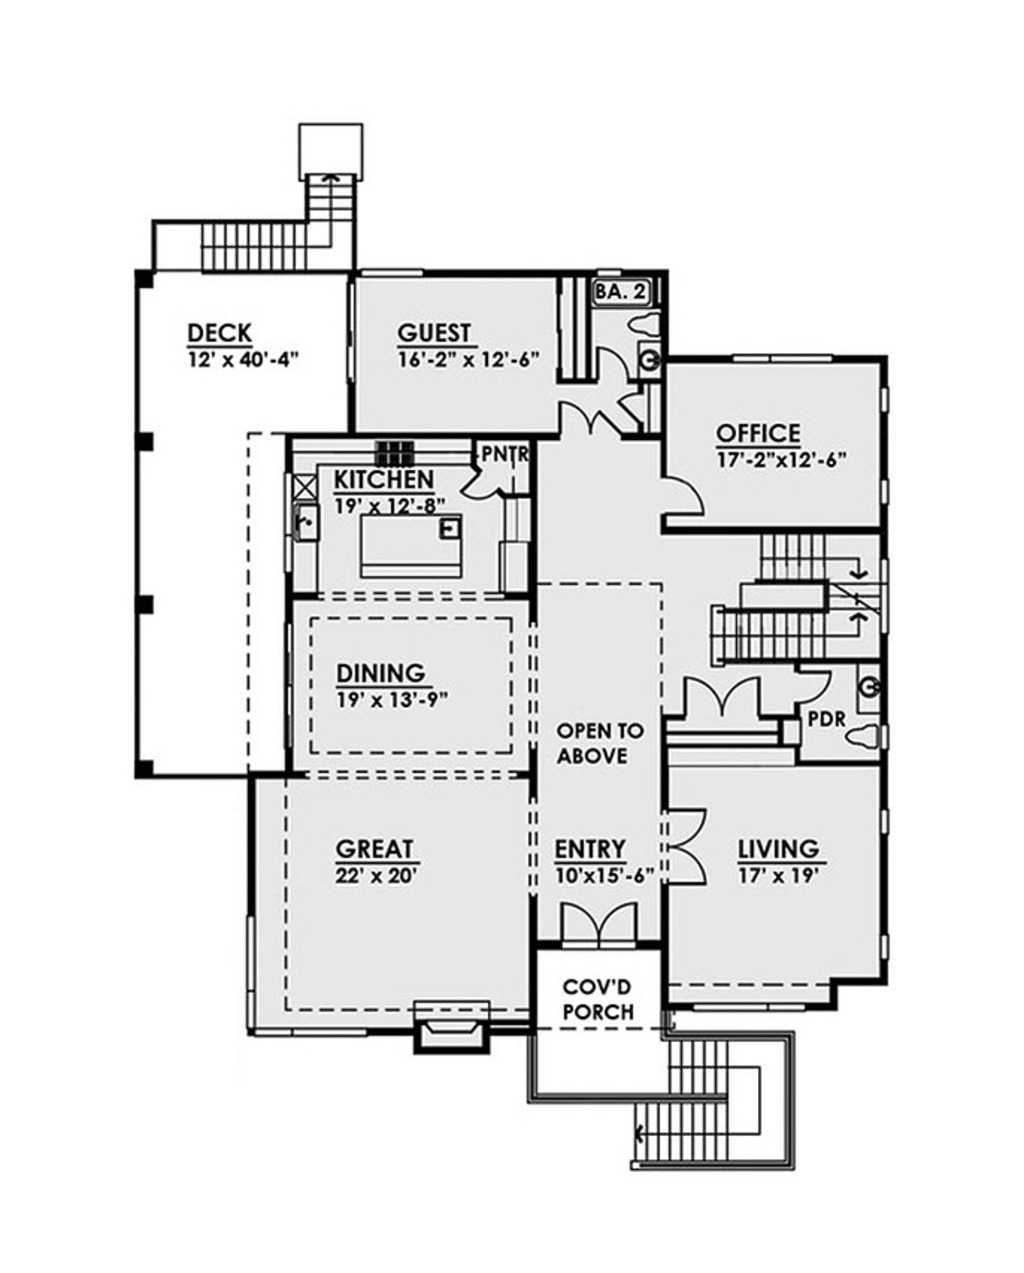door: (549, 898, 650, 952), (660, 802, 711, 895), (673, 673, 761, 715), (553, 399, 630, 442), (665, 472, 707, 517), (795, 665, 835, 713), (594, 342, 631, 384), (461, 471, 493, 504)
kitchen_bar: (352, 511, 469, 584)
large_sink: (842, 718, 885, 753)
stairs: (147, 168, 356, 281), (707, 530, 881, 665), (622, 1036, 791, 1165)
windows: (250, 1022, 370, 1048), (726, 346, 835, 373)
